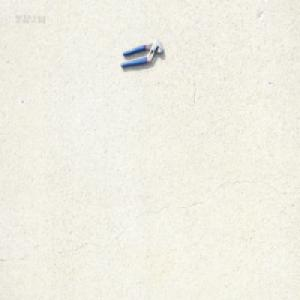Pliers: (120, 39, 164, 69)
